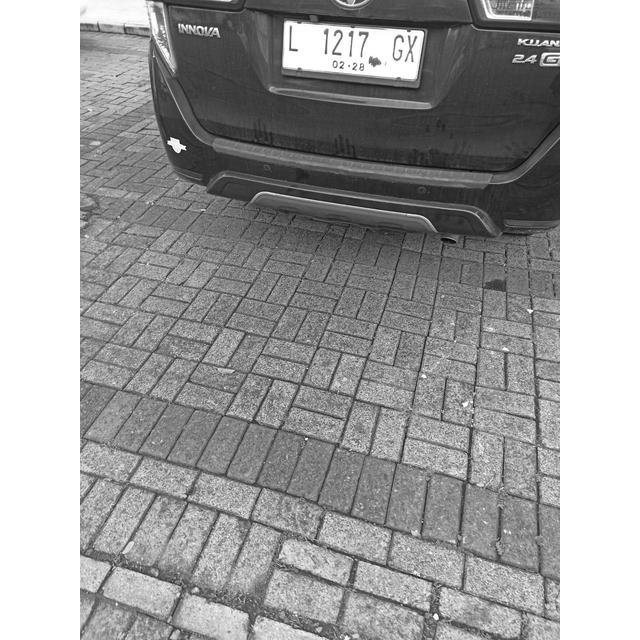license: (284, 24, 422, 73)
